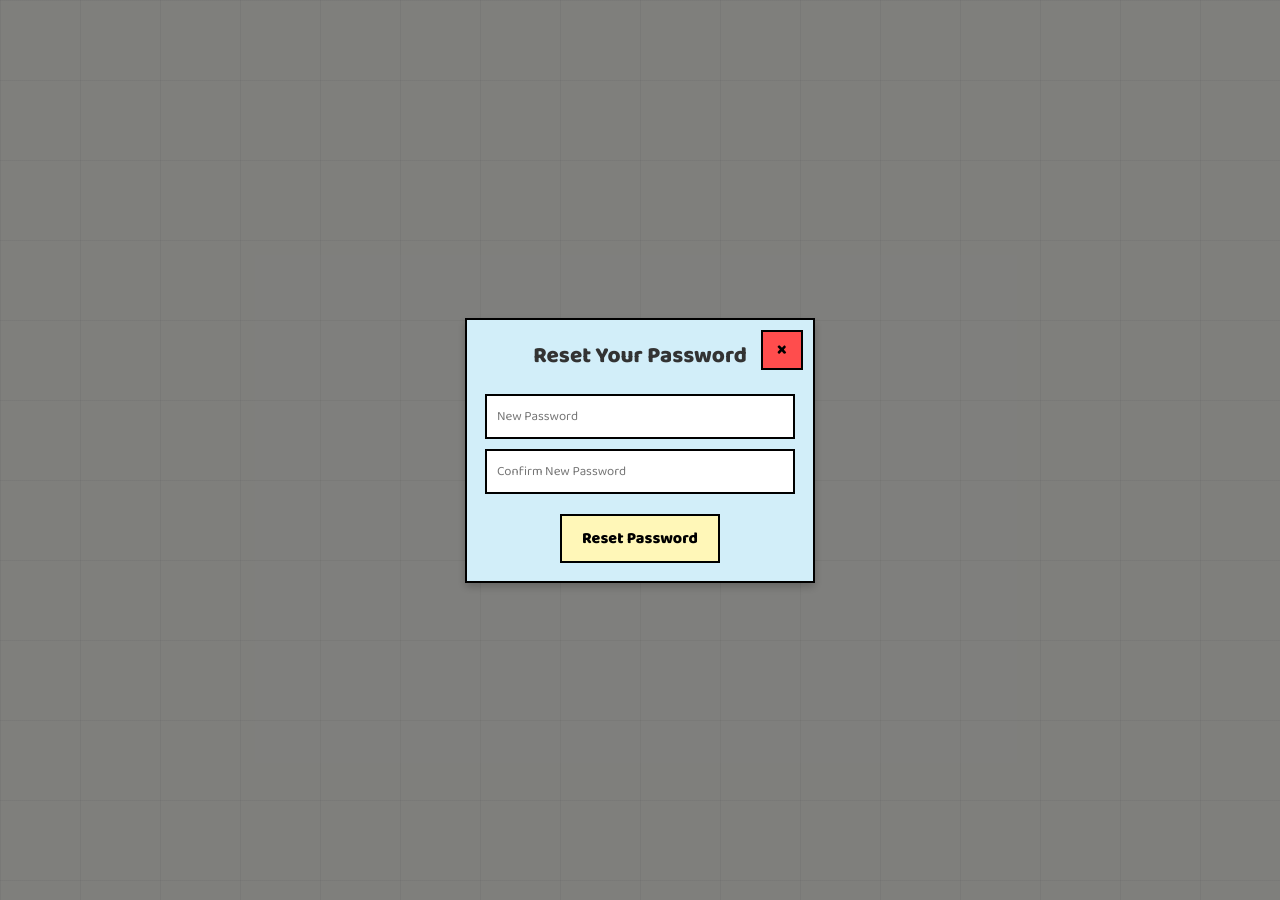
Test case: ResetPassword Component › should display error when passwords do not match
Type "StrongPassword1" into the password field with placeholder "New Password". click: {"x": 640, "y": 416}
box: [485,394,795,438]
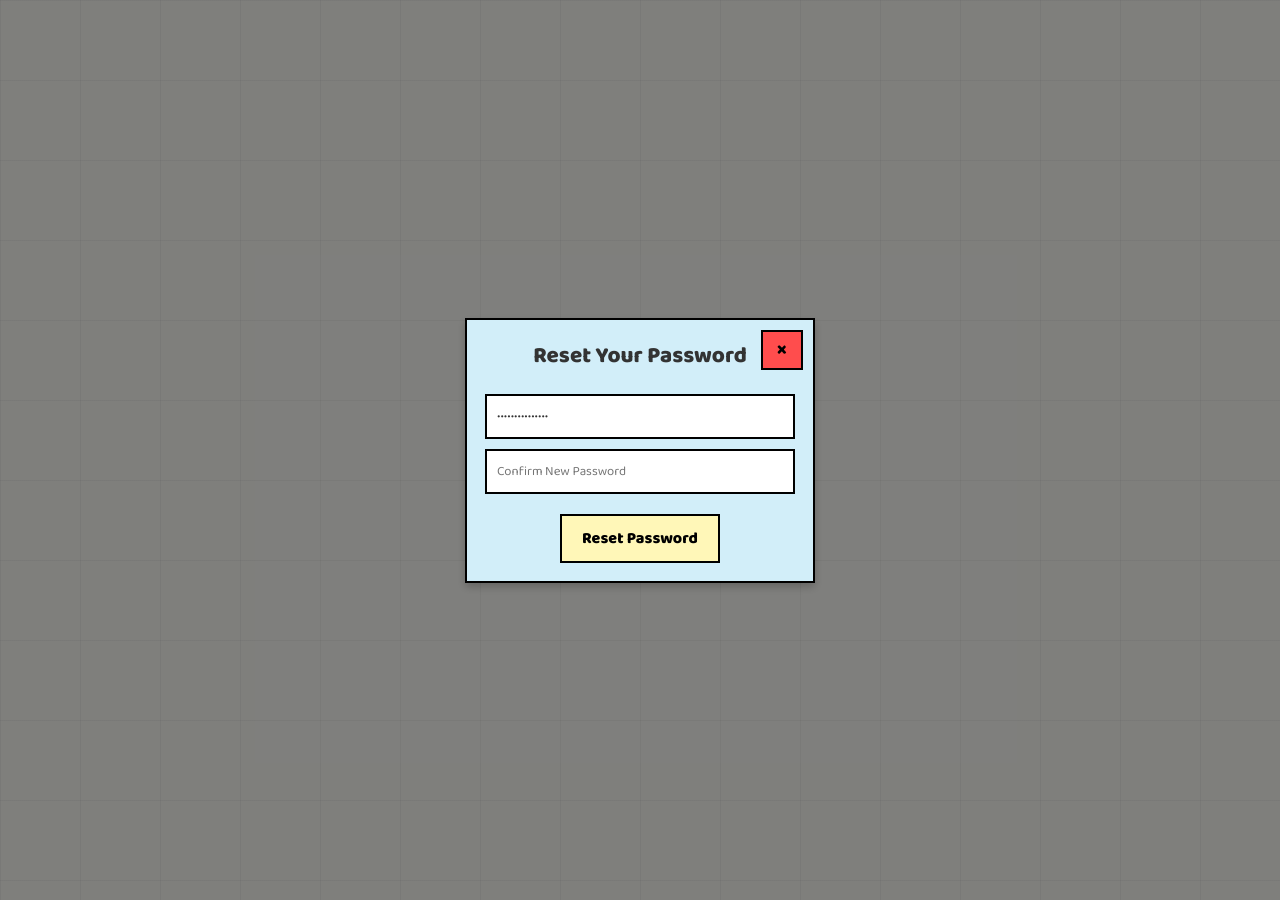
Type "DifferentPassword1" into the password field with placeholder "Confirm New Password". click: {"x": 640, "y": 471}
box: [485,448,795,494]
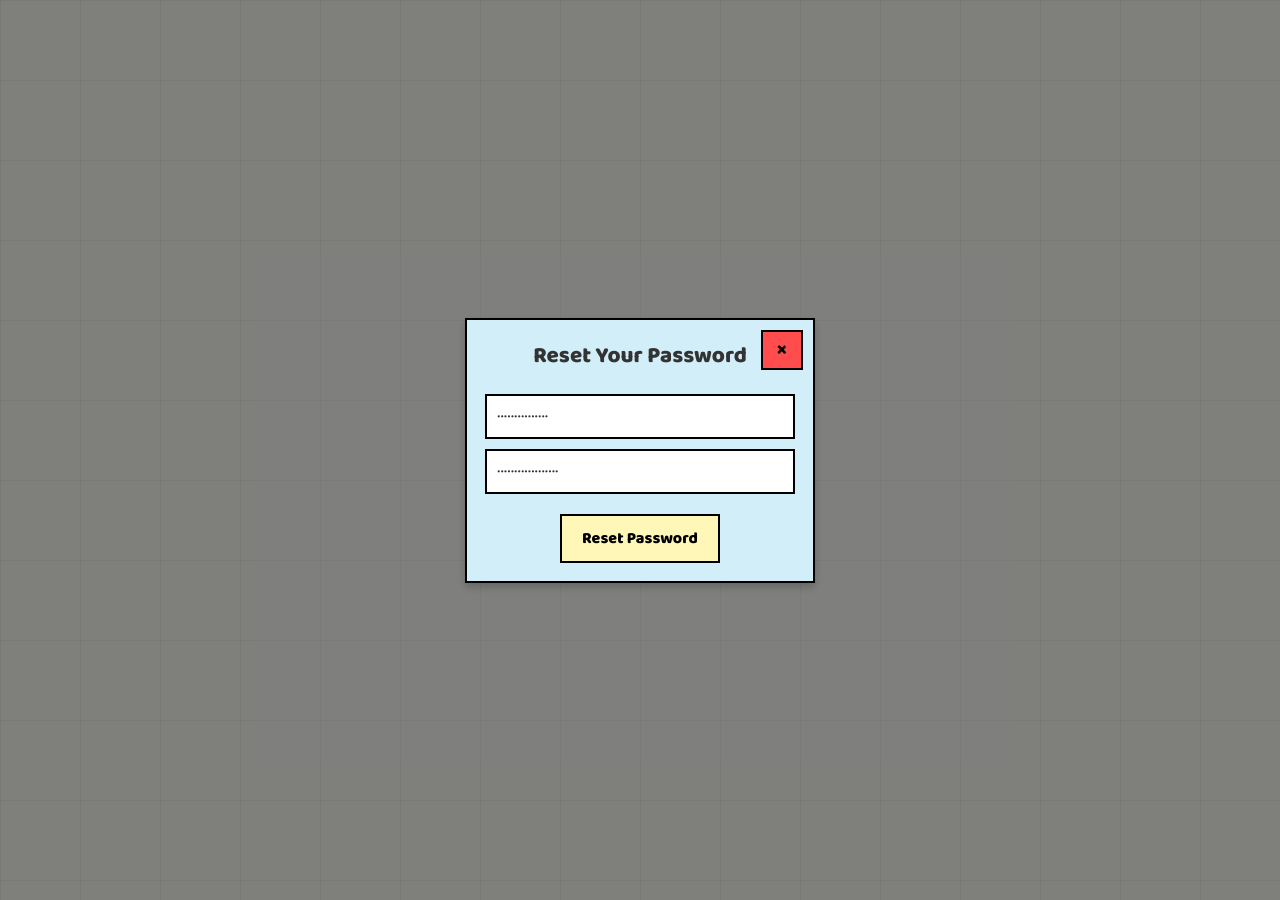
Click the button "Reset Password". click: {"x": 640, "y": 538}
box: [560,514,720,562]
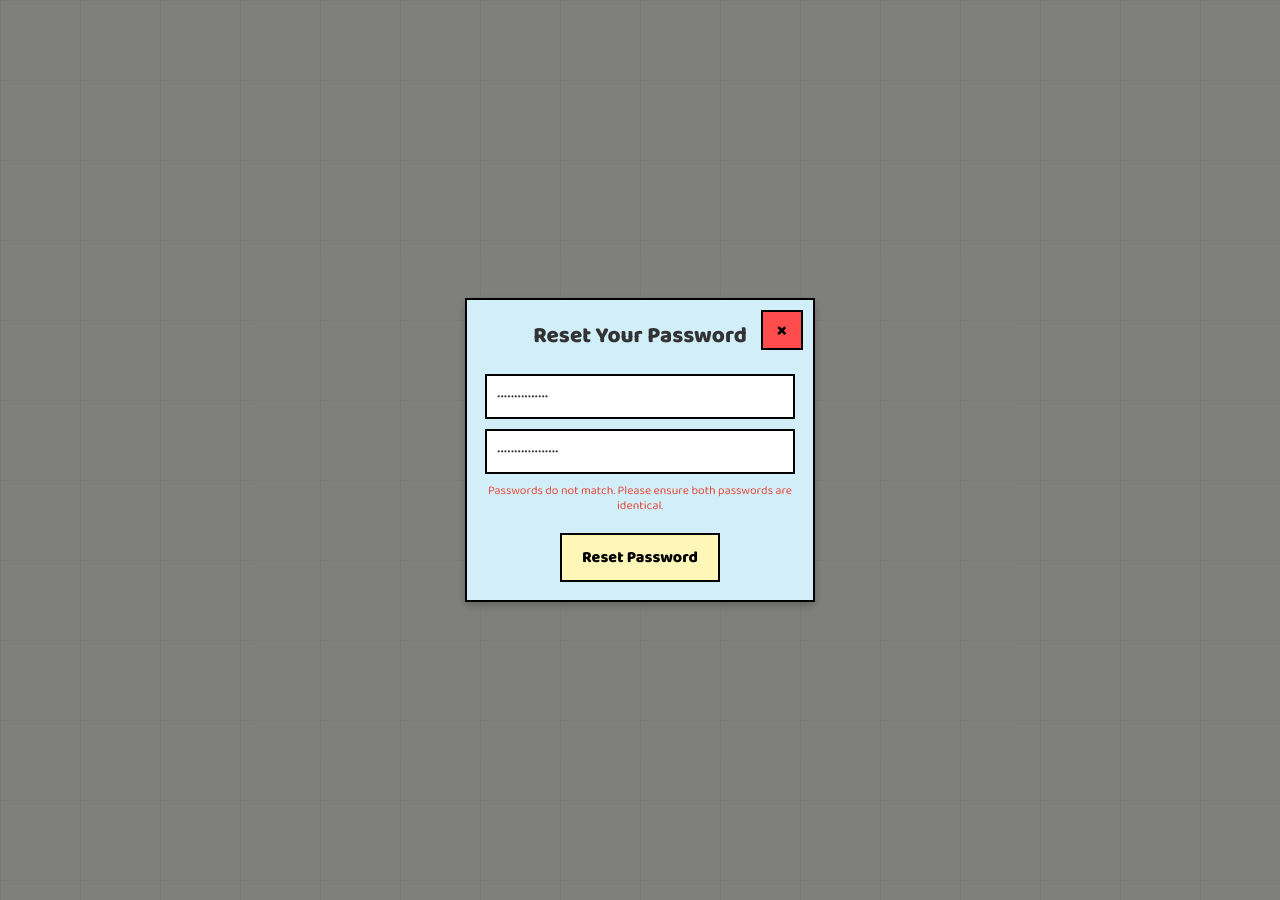
Expected: the text "Passwords do not match. Please ensure both passwords are identical." is shown, [485,484,795,513]
